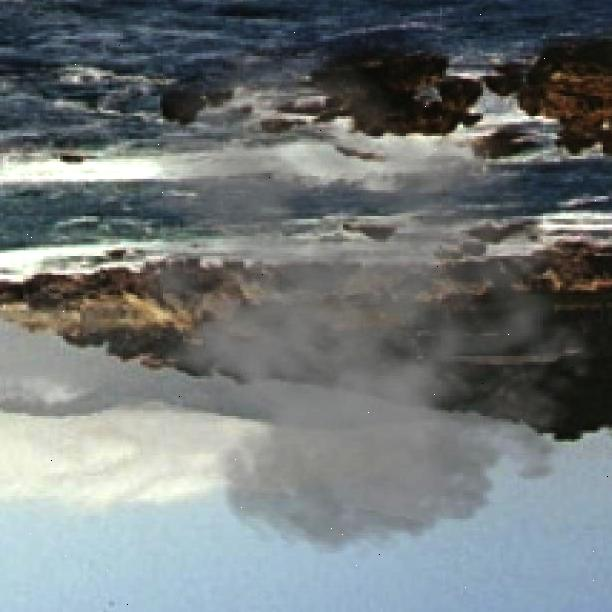smoke: (86, 41, 612, 561)
